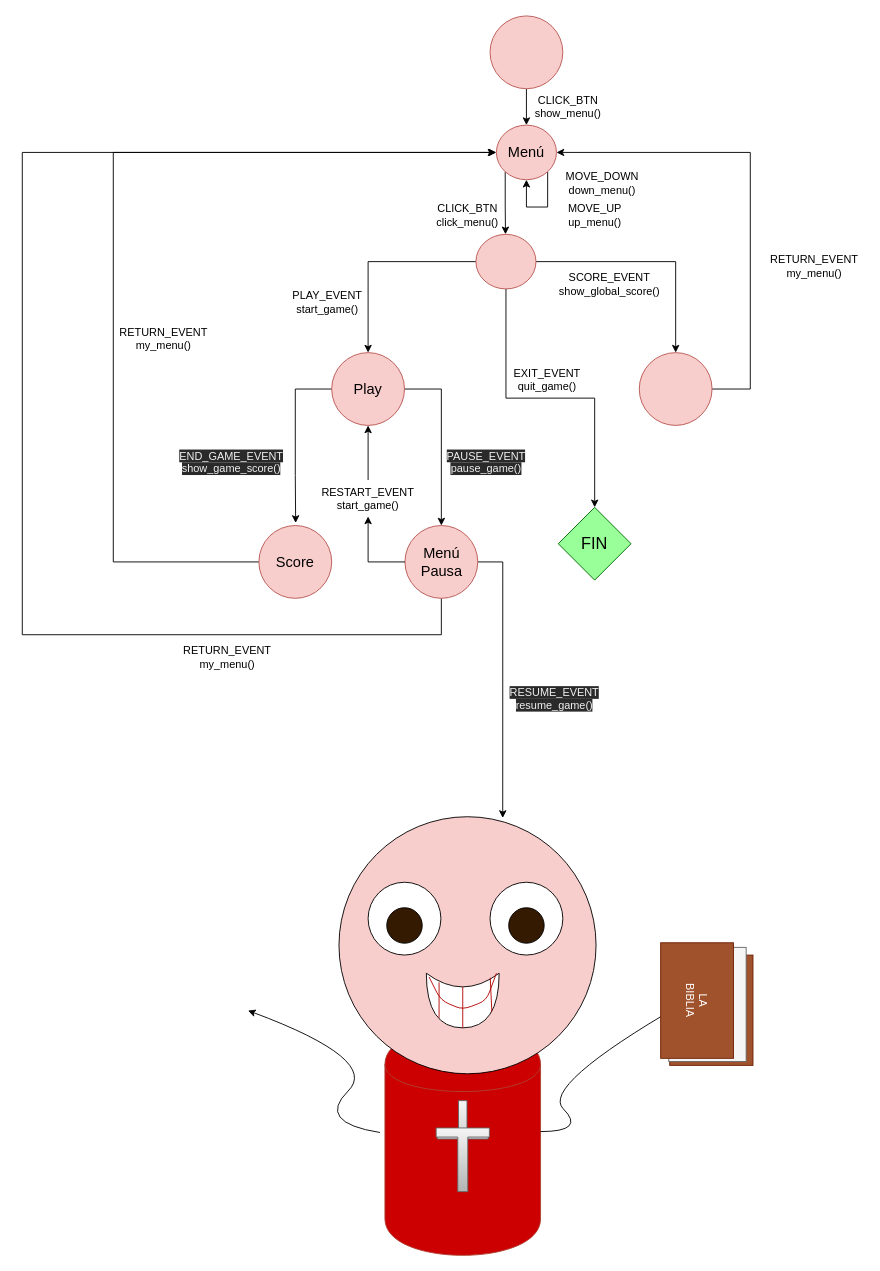
Some shapes in this 880 by 1271 pixel diagram are drawn without their labels. The shapes that lost their labels are listed below. From the top down, each one's centre as x and y in pixels, then its label:
At (526,52): "Splash".
At (505,261): "Click".
At (675,388): "Global Score".
